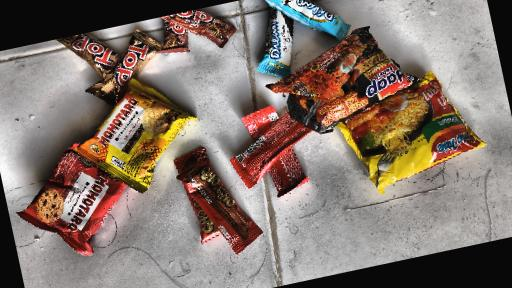chocho: (167, 138, 268, 271), (216, 98, 324, 206)
dilan: (242, 0, 365, 79)
indomie: (326, 72, 489, 201)
mie sedap: (255, 28, 432, 139)
momotaro: (0, 131, 144, 268), (57, 73, 208, 202)
top: (80, 26, 178, 107), (50, 25, 132, 82)
